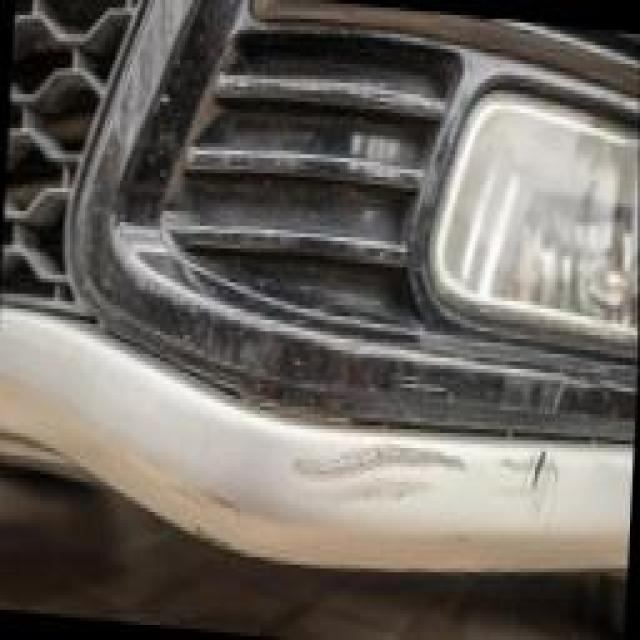Bumper: (175, 309, 586, 568)
